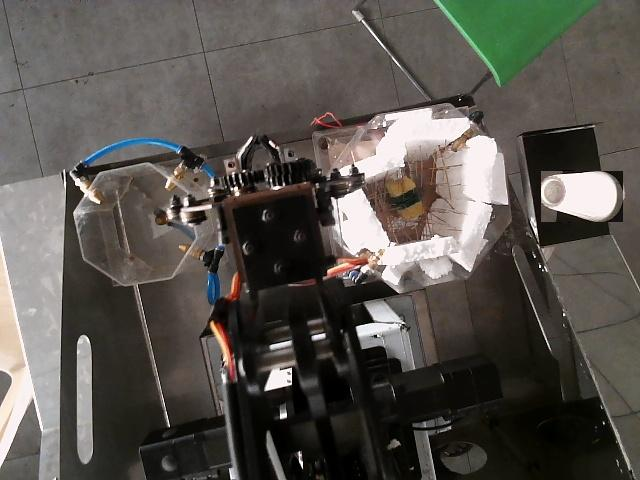cup: (541, 171, 623, 222)
